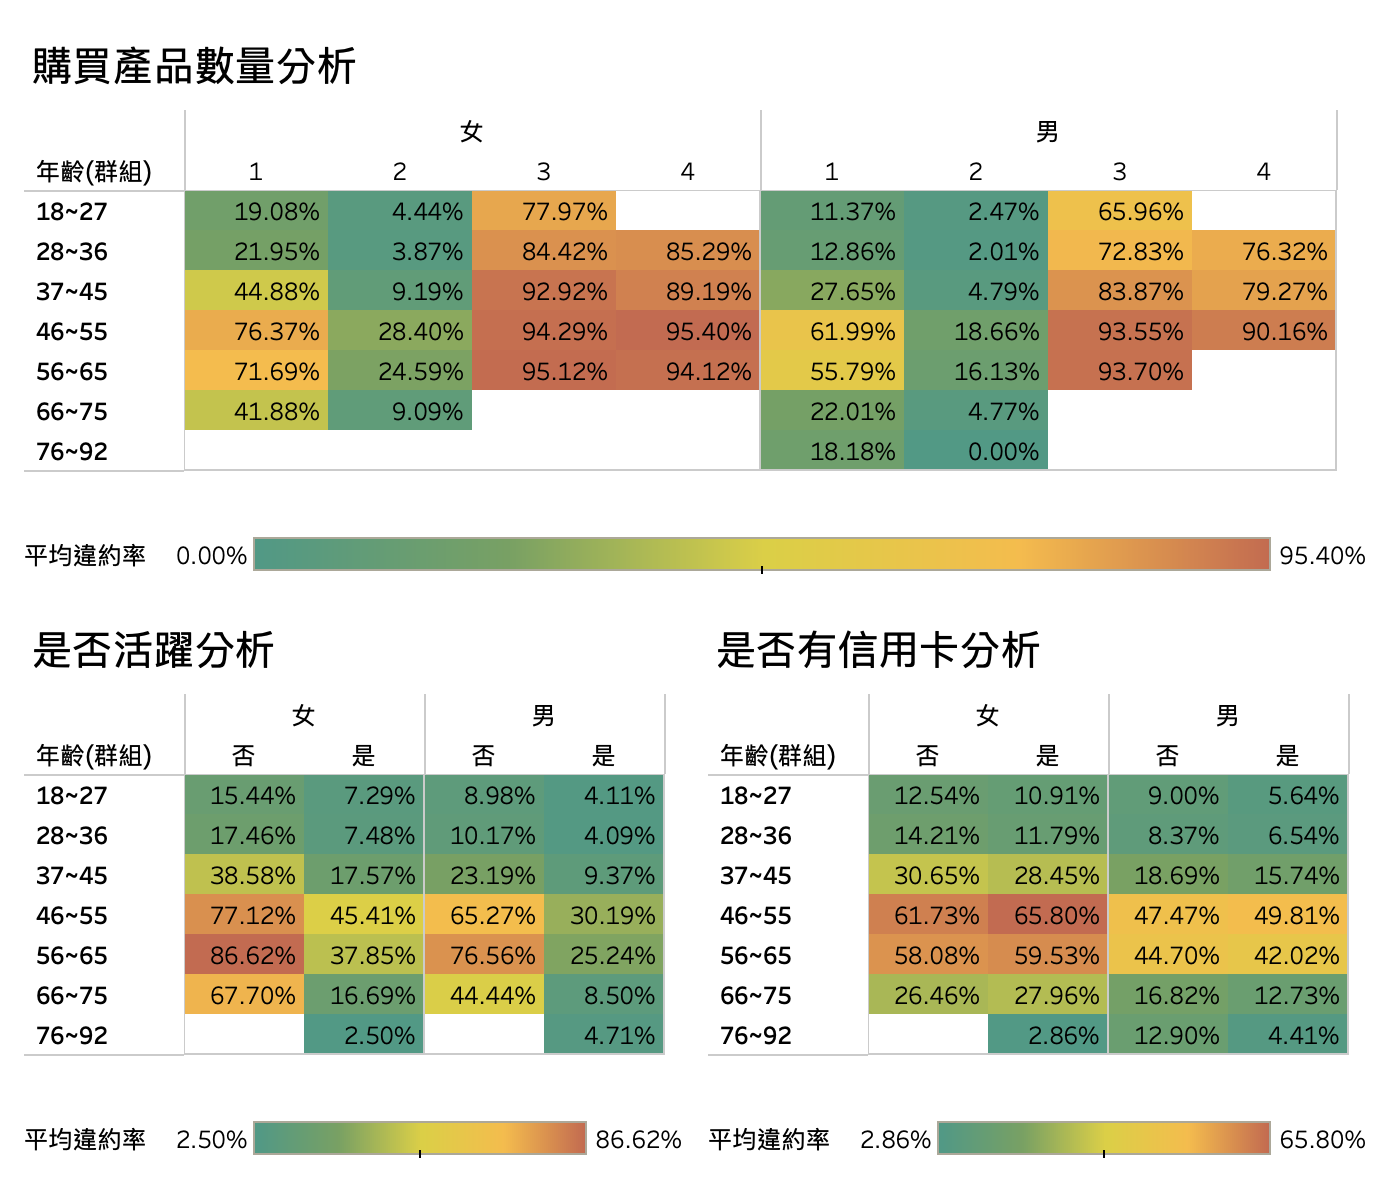

The page's visual inventory and layout, read from the dashboard file:
{"tool":"tableau","page":{"name":"離散型資料分析","canvas":[700,600],"ordinal":3},"visuals":[{"type":"worksheet","title":"購買產品數量分析","mark":"Square","cols":["Gender","NumOfProducts"],"box":[8,8,684,253.4]},{"type":"legend","title":"購買產品數量分析","param":"[federated.1xja0wz0z15wzl14sofyg1w1r8ij].[avg:Exited:qk]","box":[8,261.4,684,38.6]},{"type":"worksheet","title":"是否活躍分析","mark":"Square","cols":["Gender","IsActiveMember"],"box":[8,300,342,253.4]},{"type":"worksheet","title":"是否有信用卡分析","mark":"Square","cols":["Gender","HasCrCard"],"box":[350,300,342,253.4]},{"type":"legend","title":"是否活躍分析","param":"[federated.1xja0wz0z15wzl14sofyg1w1r8ij].[avg:Exited:qk]","box":[8,553.4,342,38.6]},{"type":"legend","title":"是否有信用卡分析","param":"[federated.1xja0wz0z15wzl14sofyg1w1r8ij].[avg:Exited:qk]","box":[350,553.4,342,38.6]}]}

Visuals, with their boxes in screenshot pixels (x1, y1, x2, y2), scaled from the page's 700x600 canvas onto the 1400x1200 screenshot:
"購買產品數量分析" worksheet (Square marks): select_region(16, 16, 1384, 523)
"購買產品數量分析" legend: select_region(16, 523, 1384, 600)
"是否活躍分析" worksheet (Square marks): select_region(16, 600, 700, 1107)
"是否有信用卡分析" worksheet (Square marks): select_region(700, 600, 1384, 1107)
"是否活躍分析" legend: select_region(16, 1107, 700, 1184)
"是否有信用卡分析" legend: select_region(700, 1107, 1384, 1184)
